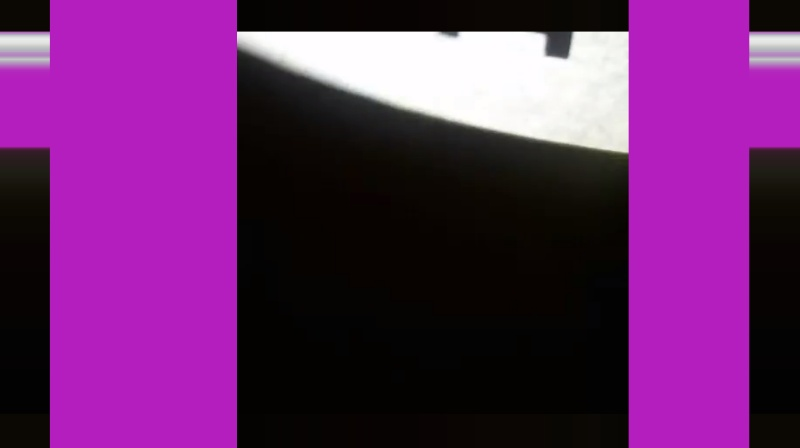O002: (435, 0, 585, 61)
